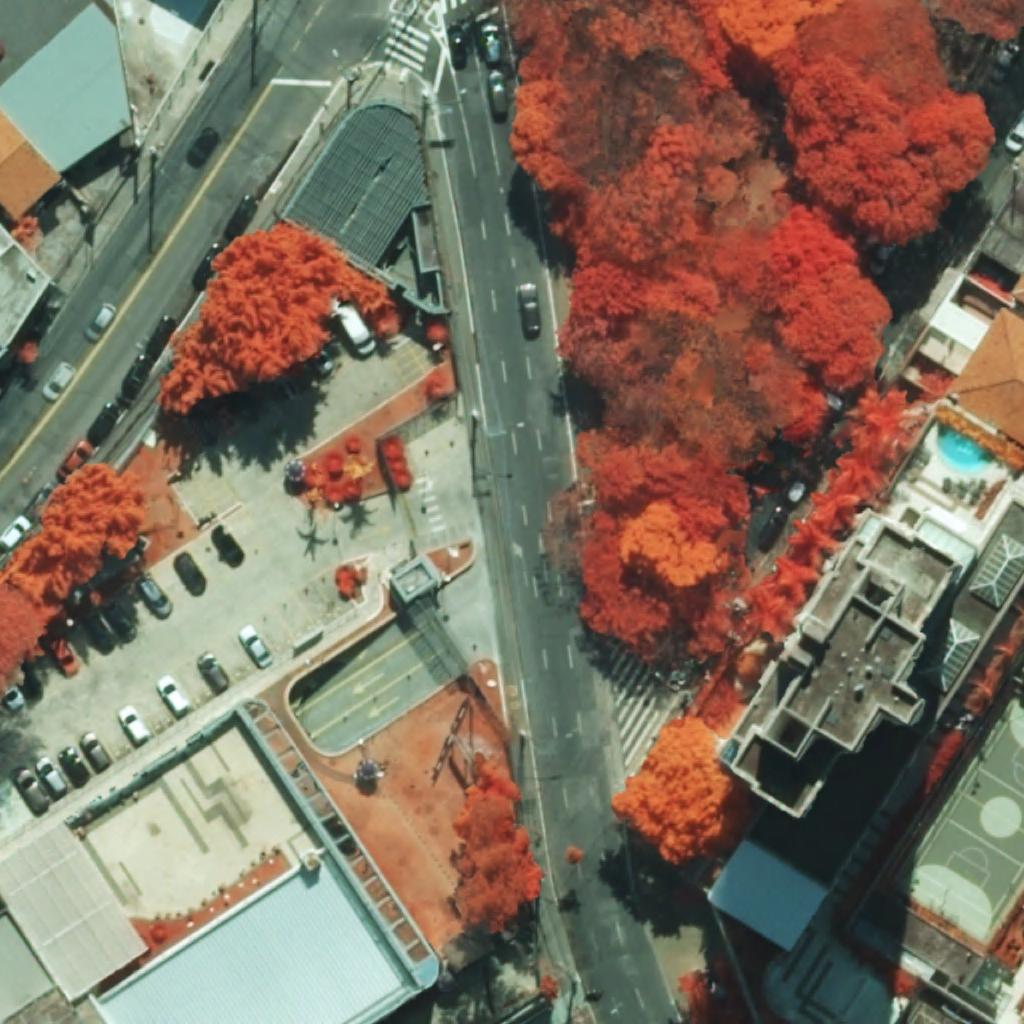pool: (937, 423, 994, 471)
